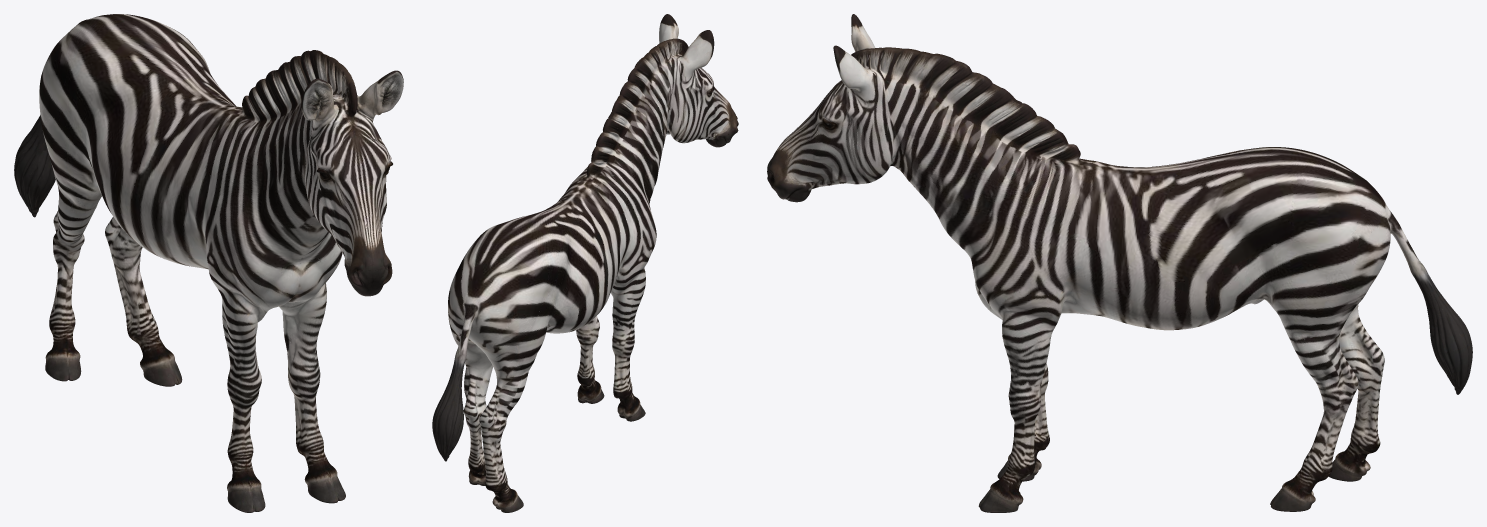
File: wild-zebra.glb
The picture shows the model from 3 angles, left to right: view 1: azimuth 30°, elevation 25°; view 2: azimuth 150°, elevation 25°; view 3: azimuth 270°, elevation 25°; orthographic projection. The views are drawn at different scales.
Parts seen in each view (by area): view 1: zebra; view 2: zebra; view 3: zebra.
Boxes of the visible parts, left/top/right/bottom form: zebra: left=14, top=14, right=403, bottom=512; zebra: left=432, top=14, right=738, bottom=512; zebra: left=767, top=14, right=1472, bottom=512.
Size of the model in its own units: 0.4849 by 1.7 by 2.4.
Materials: 1 (1 with a texture image).
